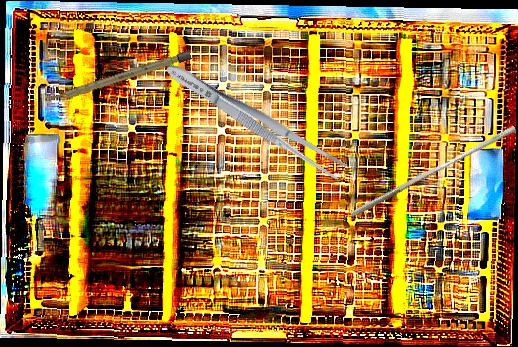Dressing Forceps: (160, 56, 350, 184)
Pusher: (349, 119, 518, 225)
Scalpel Handle: (48, 50, 192, 105)
